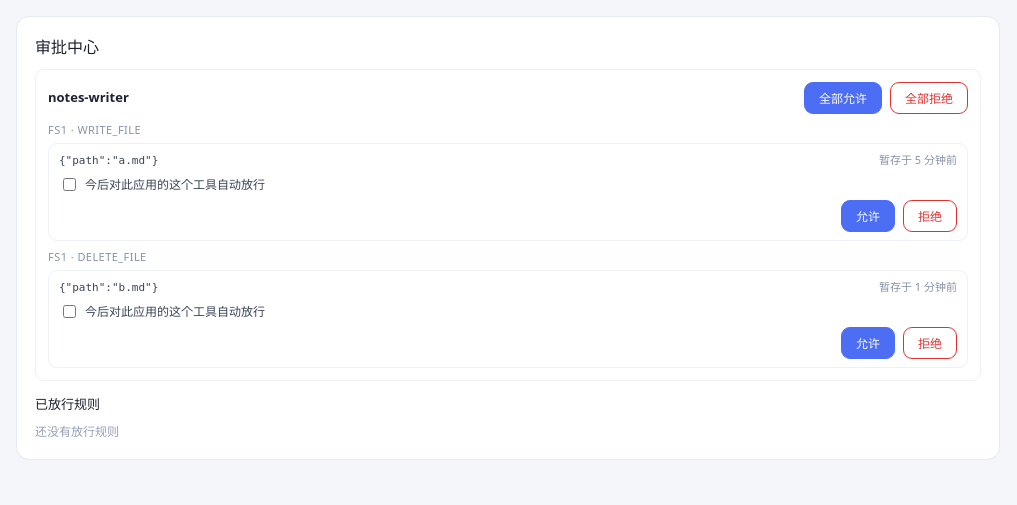
Test case: 批量允许全部成功执行后出现「已执行 2 条」摘要
The image size is (1017, 505).
expect the text "notes-writer" is shown: met, box [48, 88, 129, 108]
Step 1. Click the button "全部允许" → (843, 98), box [804, 82, 882, 114]
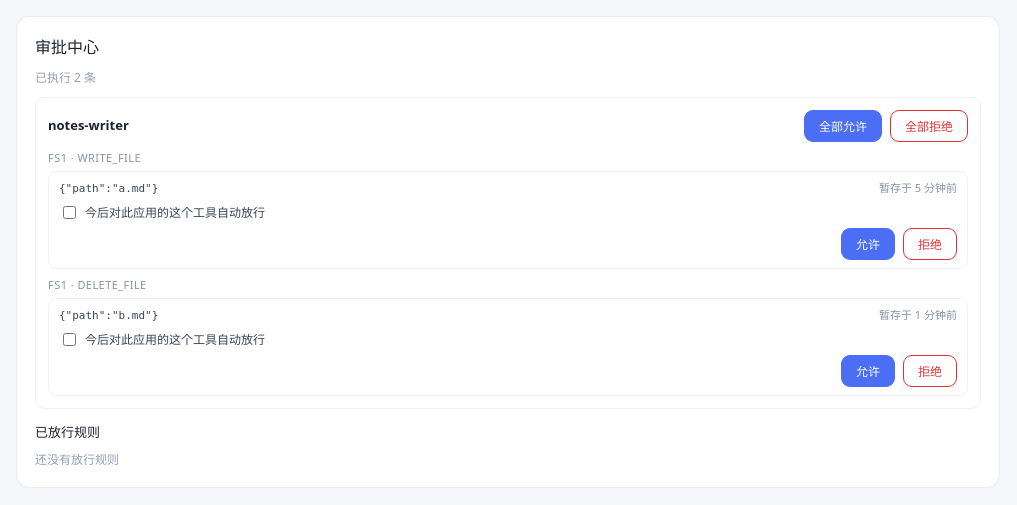
expect the text "已执行 2 条" is shown: met, box [35, 69, 96, 86]
